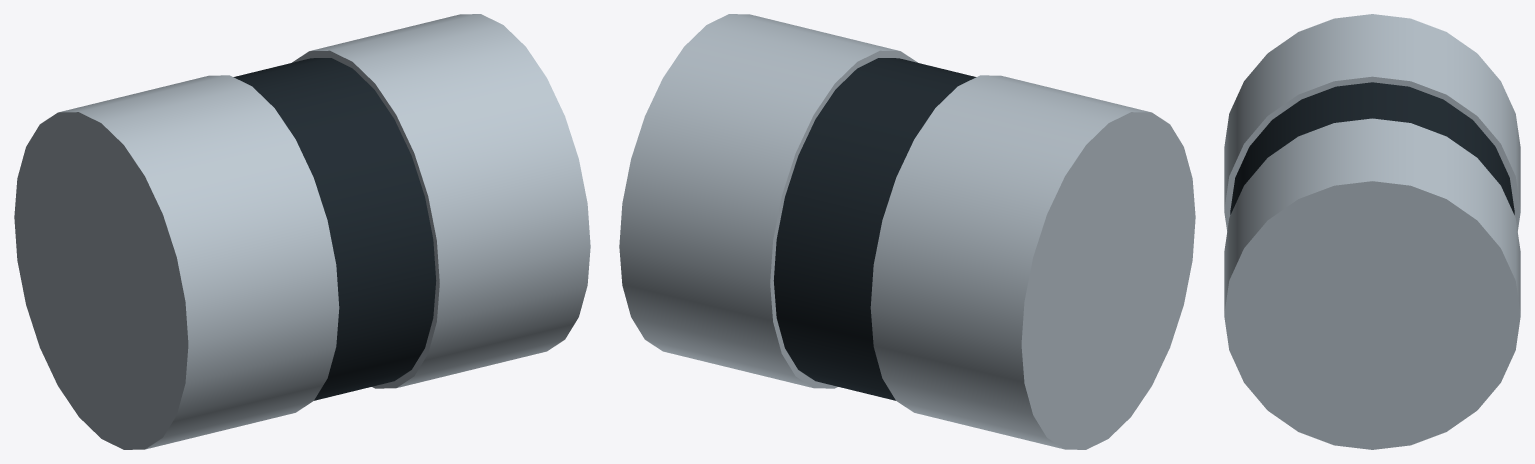
The model's file is Connection_FlexibleCoupling.fbx.
3 renders of one model, left to right at view 1: azimuth 30°, elevation 25°; view 2: azimuth 150°, elevation 25°; view 3: azimuth 270°, elevation 25°, orthographic. The views are drawn at different scales.
Parts seen in each view (by area): view 1: CouplingHub, CouplingHub.001, FlexibleInsert; view 2: CouplingHub, CouplingHub.001, FlexibleInsert; view 3: CouplingHub.001, CouplingHub, FlexibleInsert.
Boxes of the visible parts, x1=… form: CouplingHub: x1=14, y1=75, x2=339, y2=449; CouplingHub.001: x1=292, y1=14, x2=590, y2=388; FlexibleInsert: x1=233, y1=58, x2=436, y2=400; CouplingHub: x1=870, y1=75, x2=1195, y2=449; CouplingHub.001: x1=619, y1=14, x2=917, y2=388; FlexibleInsert: x1=773, y1=58, x2=976, y2=400; CouplingHub.001: x1=1224, y1=118, x2=1520, y2=449; CouplingHub: x1=1224, y1=14, x2=1520, y2=231; FlexibleInsert: x1=1230, y1=82, x2=1514, y2=214.
Size of the model in its own units: 0.32 by 0.24 by 0.24.
